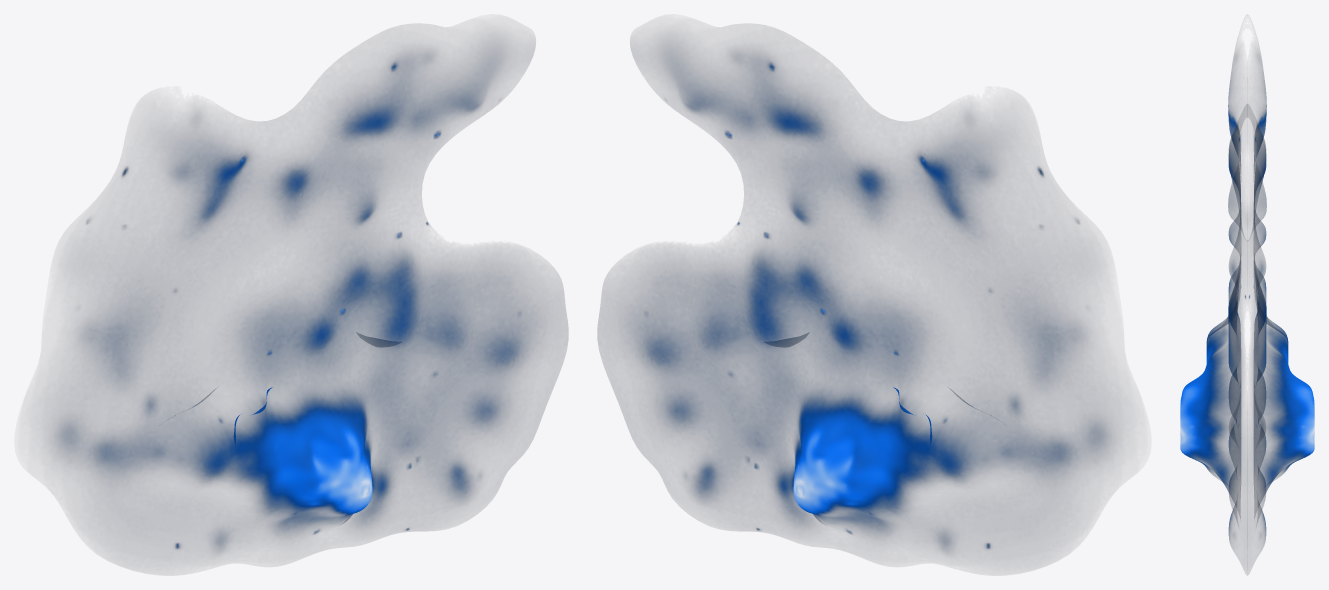
File: ic443_nebula.glb
3 renders of one model, left to right at view 1: azimuth 30°, elevation 25°; view 2: azimuth 150°, elevation 25°; view 3: azimuth 270°, elevation 25°, orthographic. The views are drawn at different scales.
Visible parts, largest first — view 1: JellyNebula3D_v1_baked; view 2: JellyNebula3D_v1_baked; view 3: JellyNebula3D_v1_baked.
Boxes of the visible parts, x1,y1,x2,y2 form: JellyNebula3D_v1_baked: (35,29,567,569); JellyNebula3D_v1_baked: (598,29,1130,569); JellyNebula3D_v1_baked: (1180,47,1314,574).
Size of the model in its own units: 1.52 by 1.35 by 0.3761.
1 material, 1 textured.
